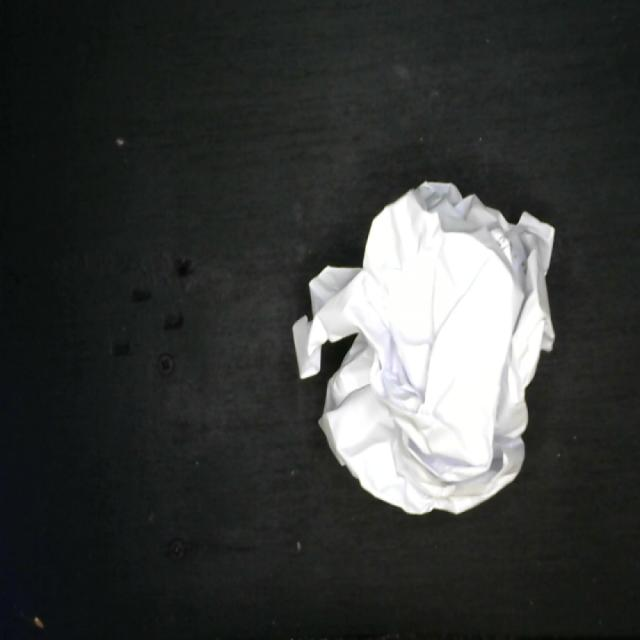biodegradable: (289, 178, 558, 520)
